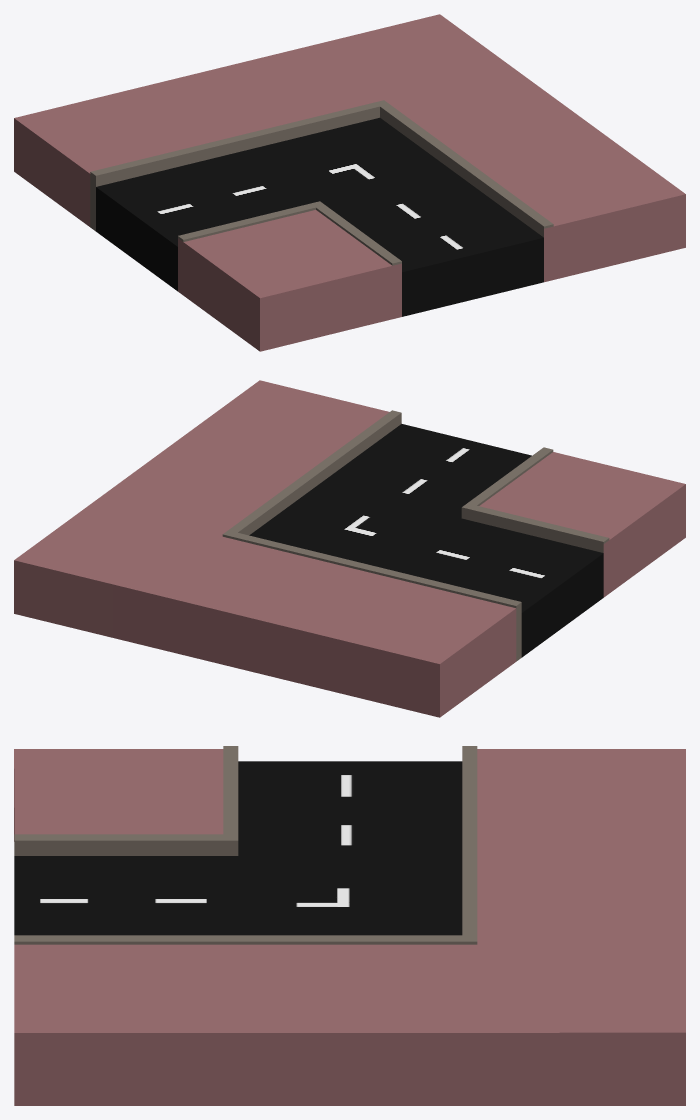
The model's file is M_Road_Turn.FBX.
3 views of the same model, one above another, from view 1: azimuth 30°, elevation 25°; view 2: azimuth 150°, elevation 25°; view 3: azimuth 270°, elevation 25° (orthographic). The views are drawn at different scales.
Parts seen in each view (by area): view 1: Road_Turn; view 2: Road_Turn; view 3: Road_Turn.
Part boxes in pixels (x1,y1,x2,y2): Road_Turn: (14, 14, 685, 351); Road_Turn: (14, 380, 685, 717); Road_Turn: (14, 746, 685, 1105).
Bounding box in the file's own units: 10 × 10 × 1.25.
